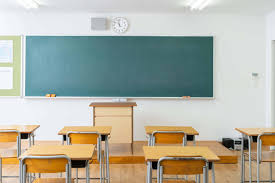Bench: (33, 131, 108, 183), (144, 127, 204, 177)
